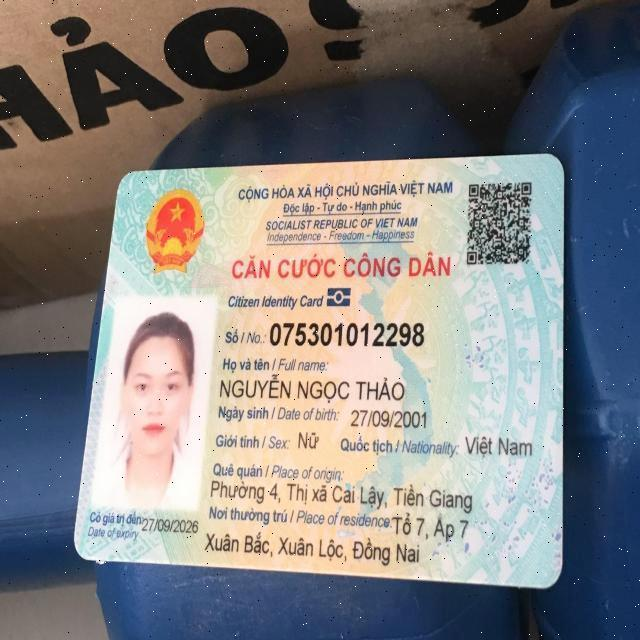current_place: (207, 528, 420, 569), (393, 511, 468, 539)
dob: (349, 408, 428, 430)
expire_date: (141, 513, 199, 537)
gender: (299, 429, 322, 454)
id: (269, 316, 429, 352)
name: (221, 370, 412, 406)
nationality: (462, 428, 534, 461)
origin_place: (210, 478, 475, 514)
qr: (462, 179, 537, 269)
